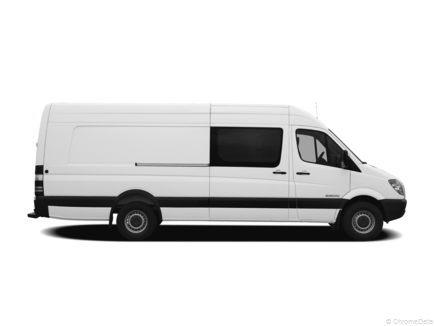car: (27, 100, 410, 244)
